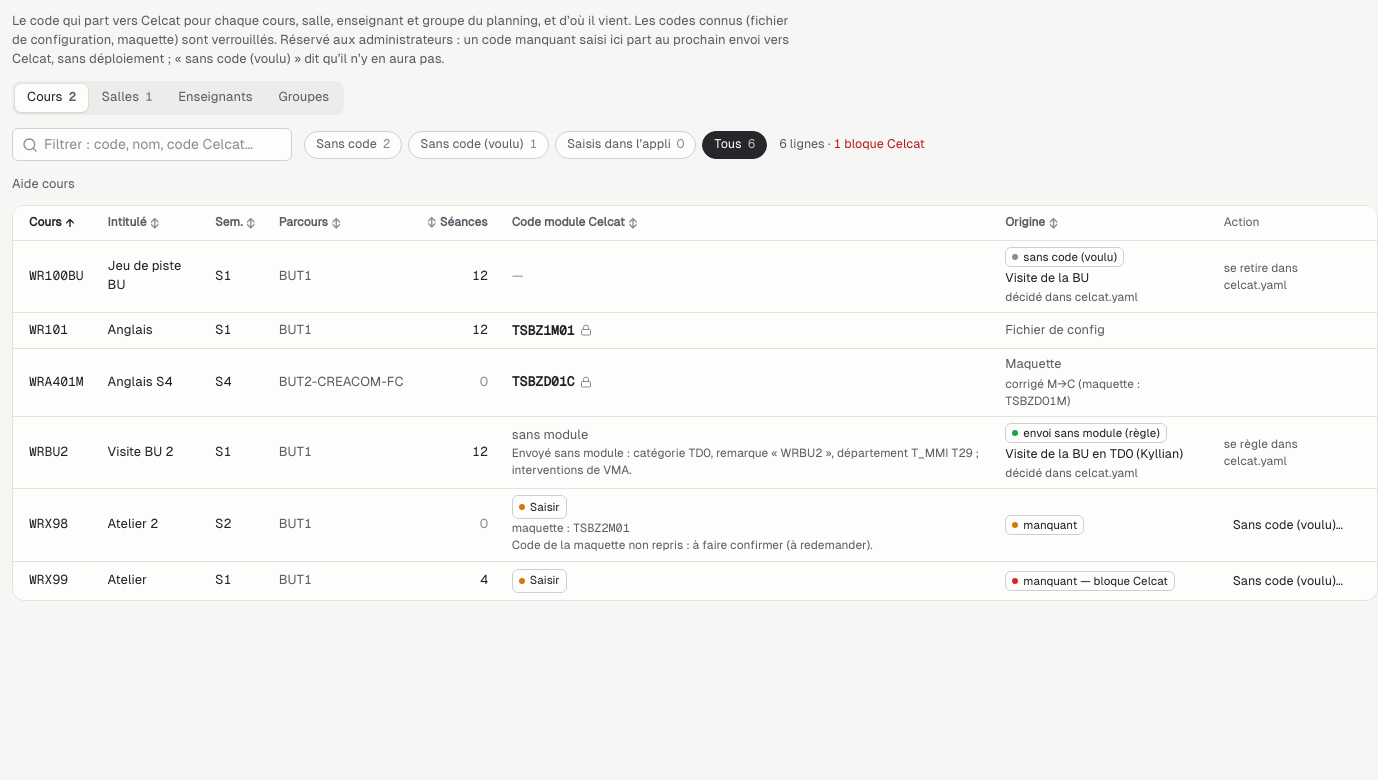
Scenario: Référence — Codes Celcat › affiche le refus du serveur sous le champ, qui reste ouvert
Click the tab "Salles 1": point(127, 98) [90,84,164,112]
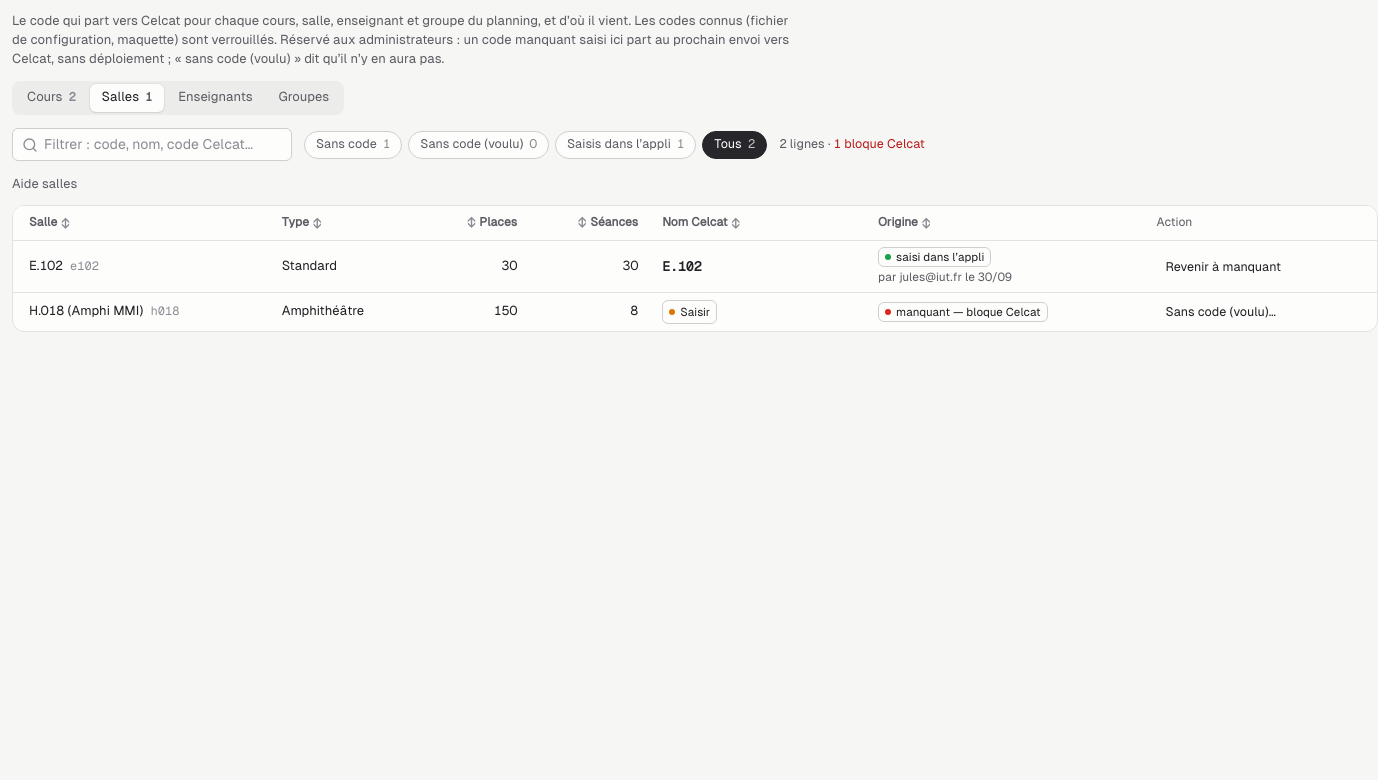
Click the button with aria-label "Saisir — Nom Celcat de H.018": point(690, 312) [662,300,717,324]
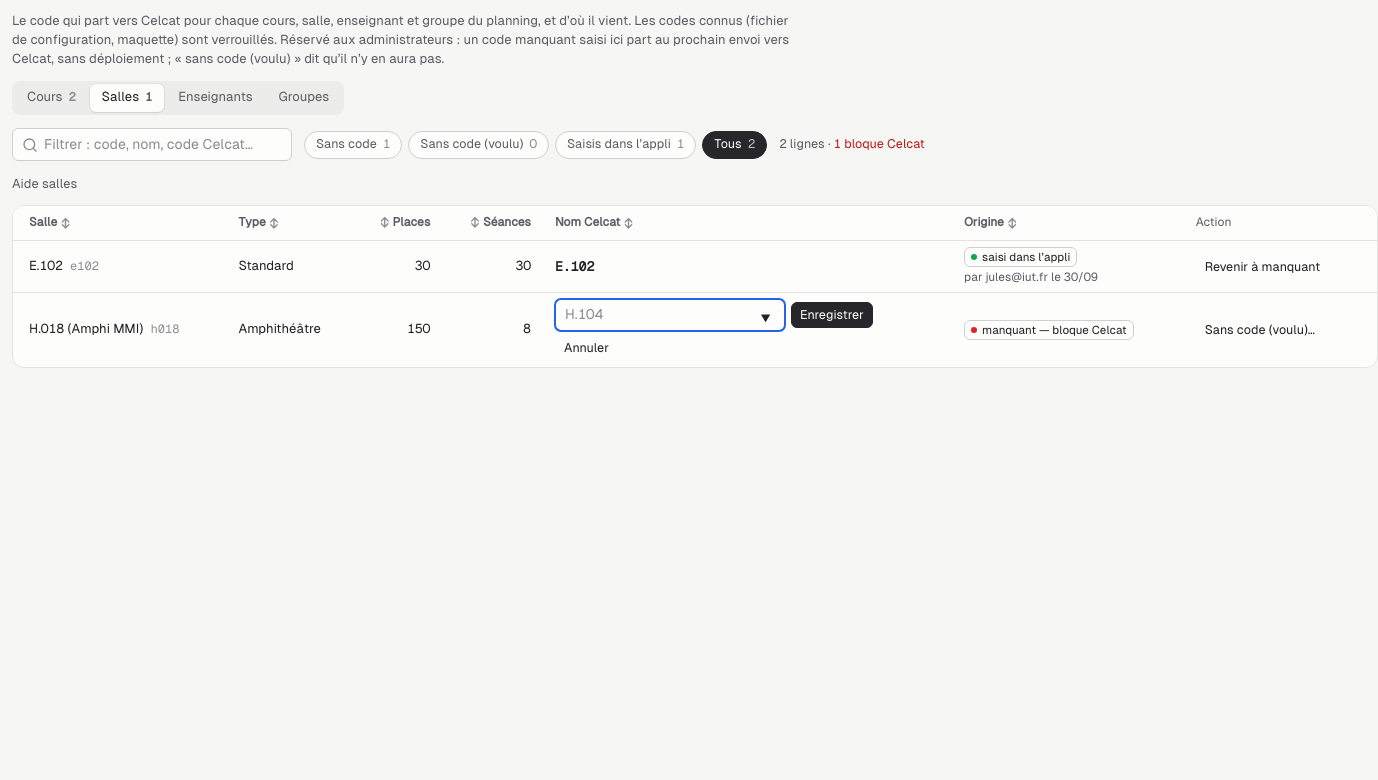
In the field named "Nom Celcat de H.018": point(670, 315) [555,299,785,331], type "H.005"
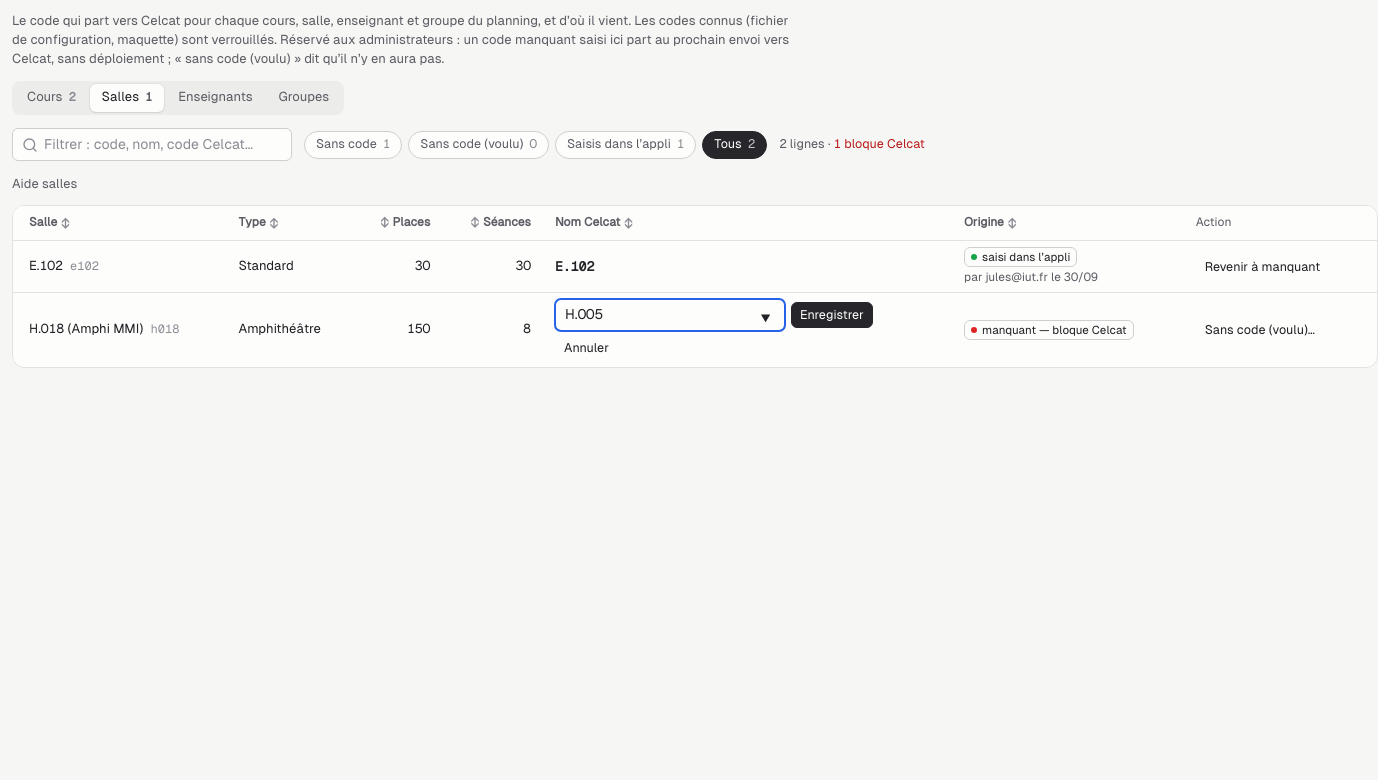
Submit the form named "Nom Celcat de H.018", box [555,299,873,361]
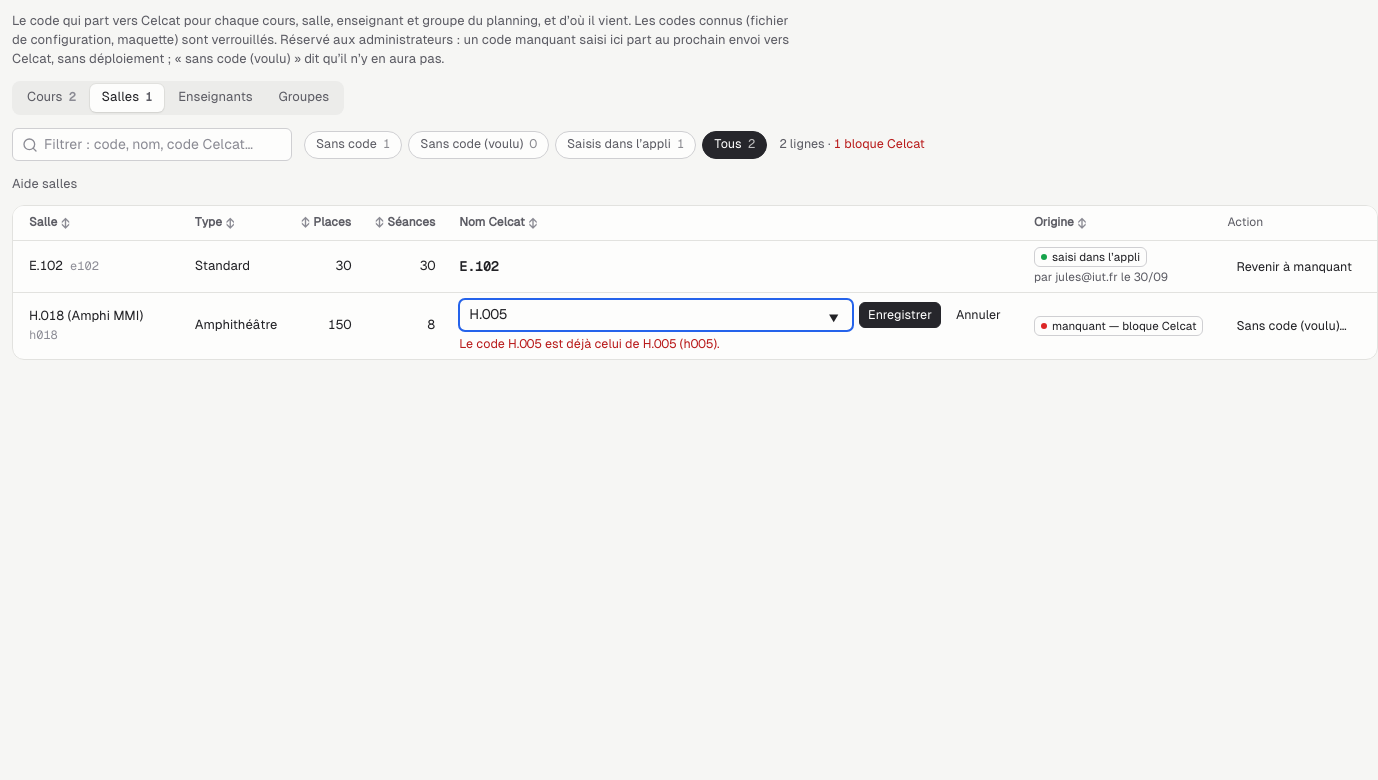
Expected: the message shows "déjà celui de H.005", [459,337,720,351]
